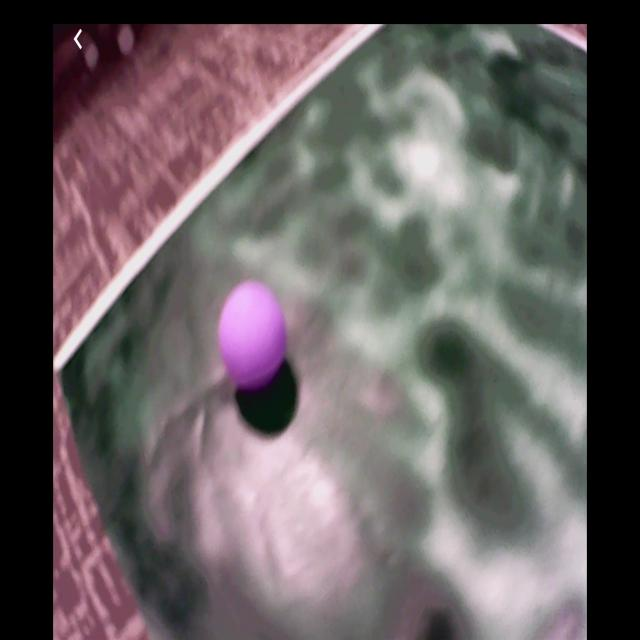ball: (223, 281, 287, 391)
